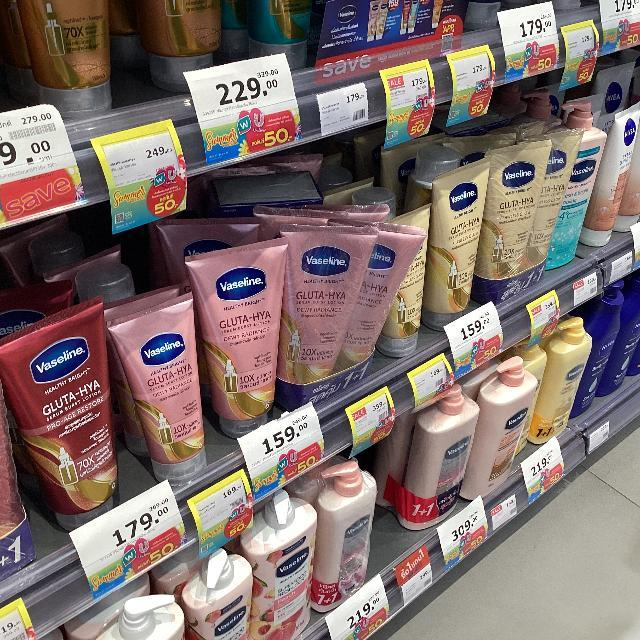Squeeze Tube: (156, 211, 477, 385), (4, 280, 179, 519), (107, 254, 297, 450), (410, 163, 492, 345)
